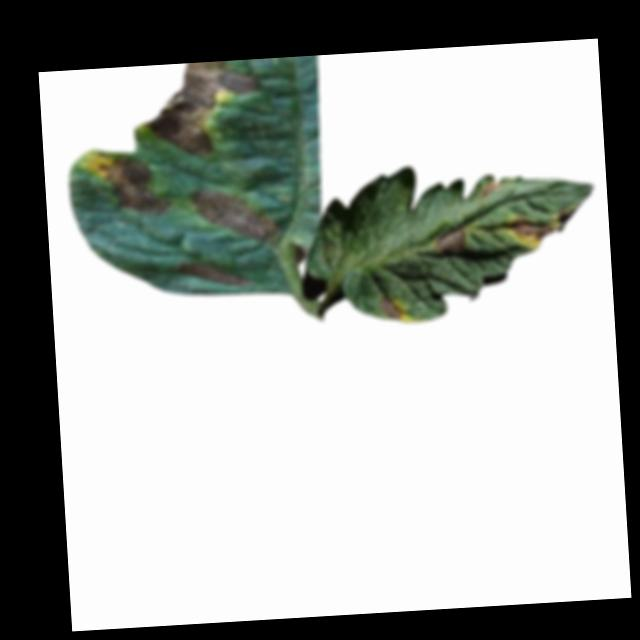Early_blight: (139, 59, 266, 158), (184, 178, 279, 249), (95, 153, 169, 219), (178, 257, 246, 295), (508, 211, 554, 249), (428, 227, 466, 253), (376, 293, 406, 321), (476, 176, 502, 198)
